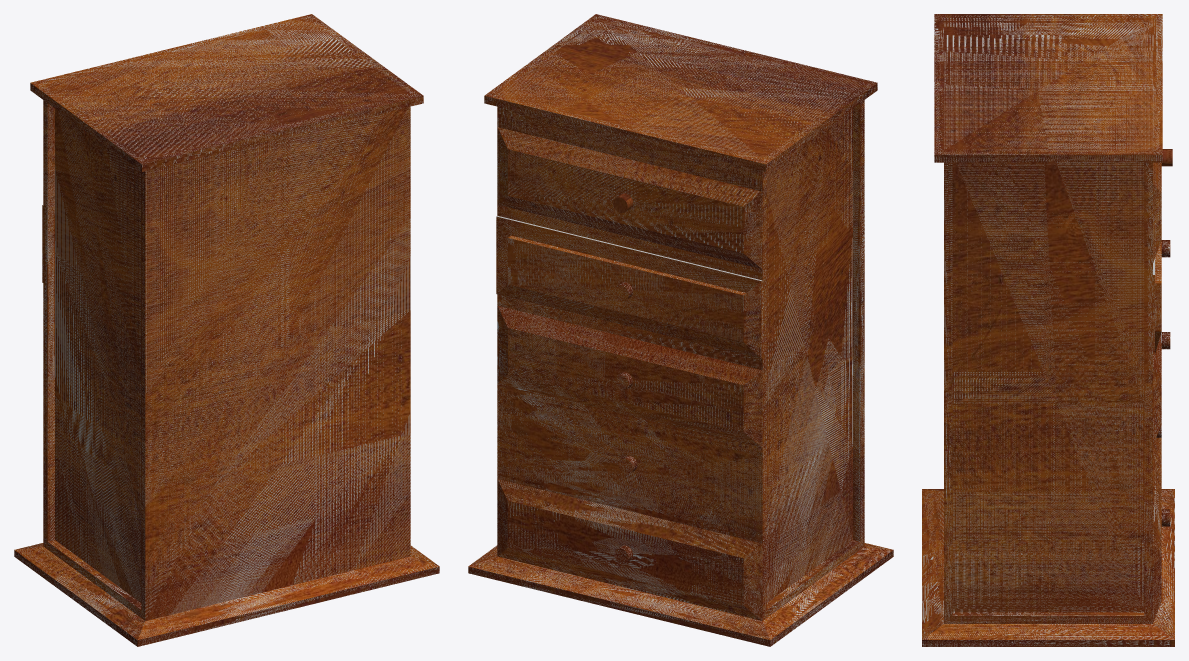
3 renders of one model, left to right at view 1: azimuth 30°, elevation 25°; view 2: azimuth 150°, elevation 25°; view 3: azimuth 270°, elevation 25°, orthographic. The views are drawn at different scales.
Visible parts, largest first — view 1: mesh3_mesh3-geometry; view 2: mesh3_mesh3-geometry; view 3: mesh3_mesh3-geometry.
Boxes of the visible parts, x1=… form: mesh3_mesh3-geometry: x1=14, y1=14, x2=439, y2=646; mesh3_mesh3-geometry: x1=468, y1=14, x2=893, y2=646; mesh3_mesh3-geometry: x1=922, y1=14, x2=1174, y2=646.
Bounding box in the file's own units: 0.5154 × 0.7755 × 0.3647.
